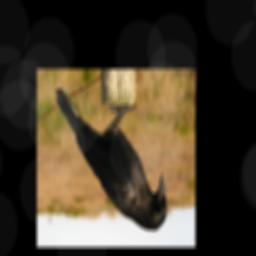Crow: (53, 87, 167, 231)
